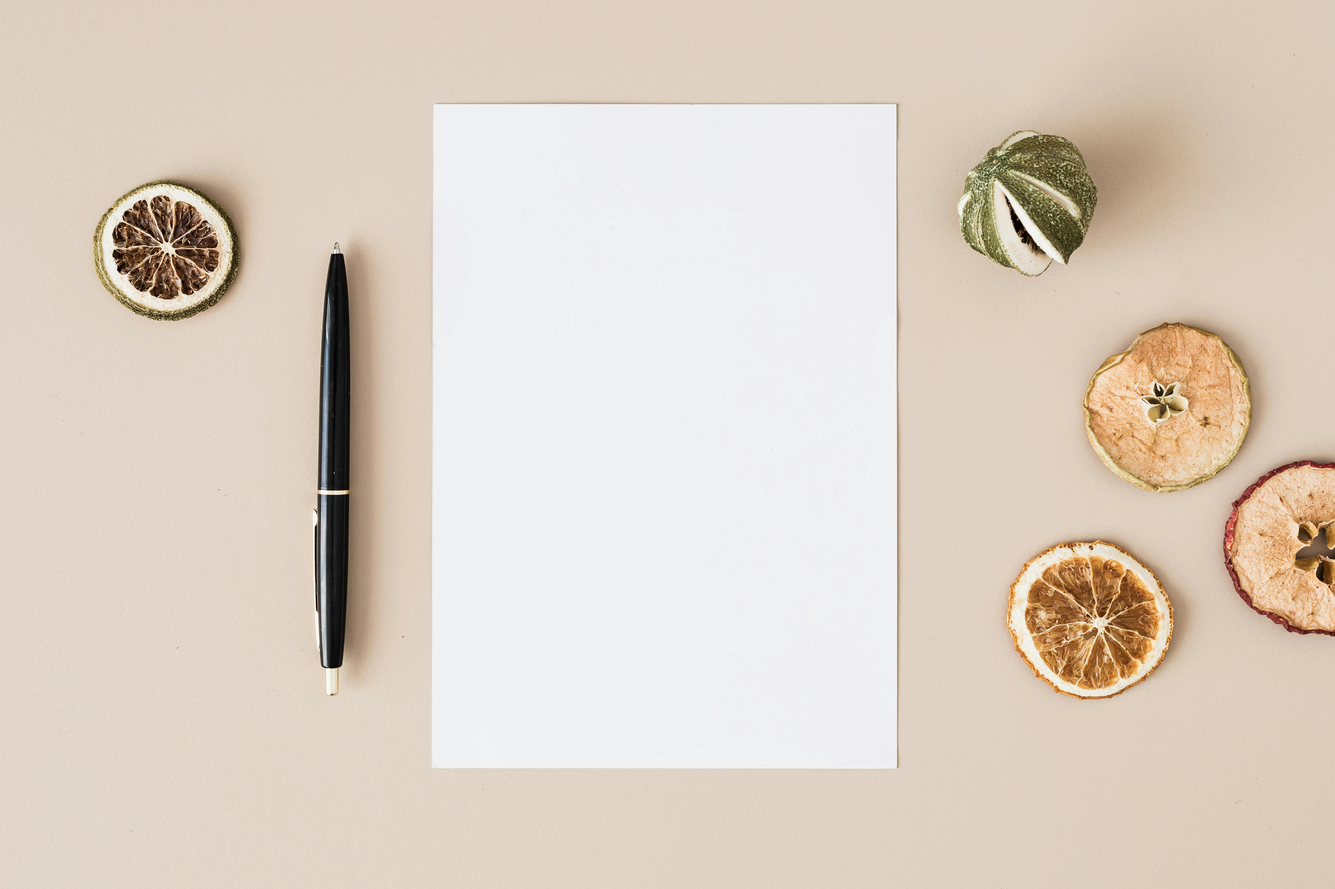paper: (430, 102, 897, 769)
